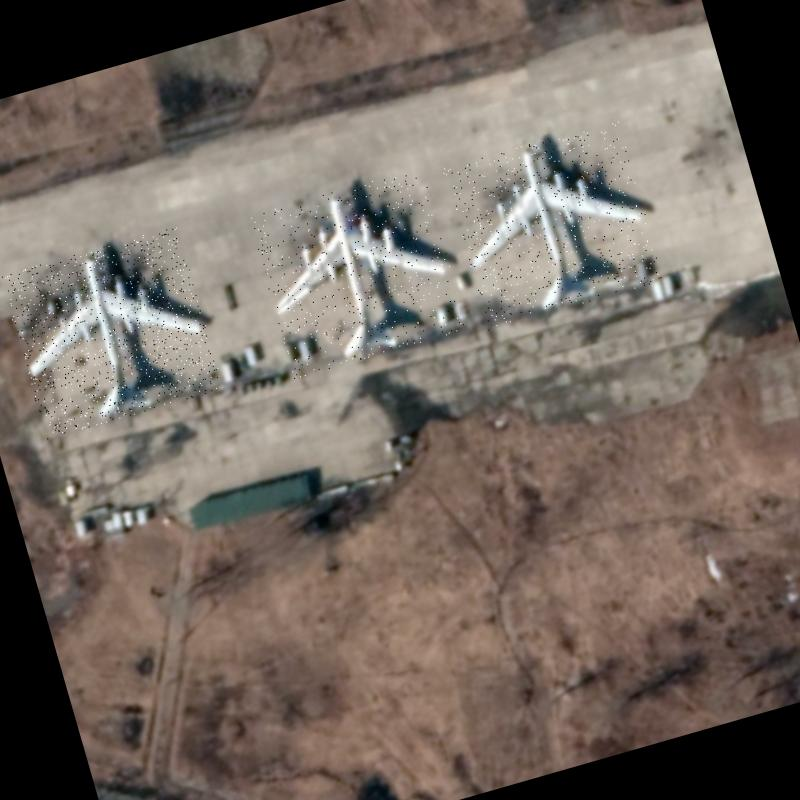A17: (0, 225, 224, 439), (442, 118, 664, 330), (247, 166, 468, 378)
